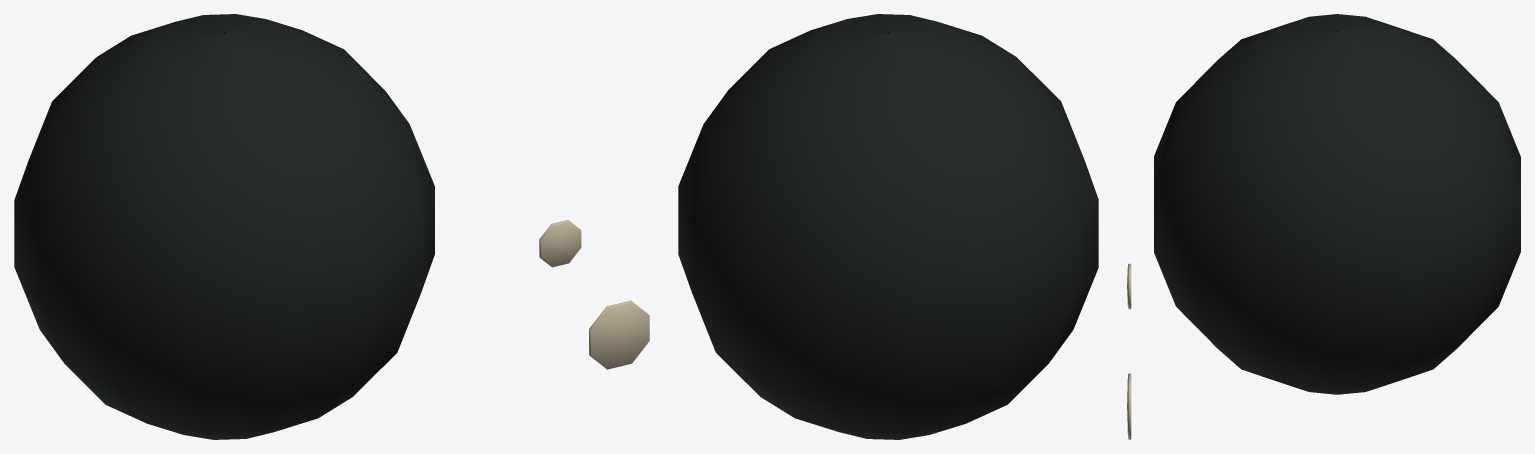
File: trebuchet_launcher_glass.glb
The picture shows the model from 3 angles, left to right: view 1: azimuth 30°, elevation 25°; view 2: azimuth 150°, elevation 25°; view 3: azimuth 270°, elevation 25°; orthographic projection. The views are drawn at different scales.
Parts seen in each view (by area): view 1: Glass; view 2: Glass; view 3: Glass.
Part boxes in pixels (<box>): Glass: <box>14,14,649,439</box>; Glass: <box>678,14,1098,439</box>; Glass: <box>1127,14,1520,439</box>.
Bounding box in the file's own units: 5.82 × 4.4 × 4.53.
